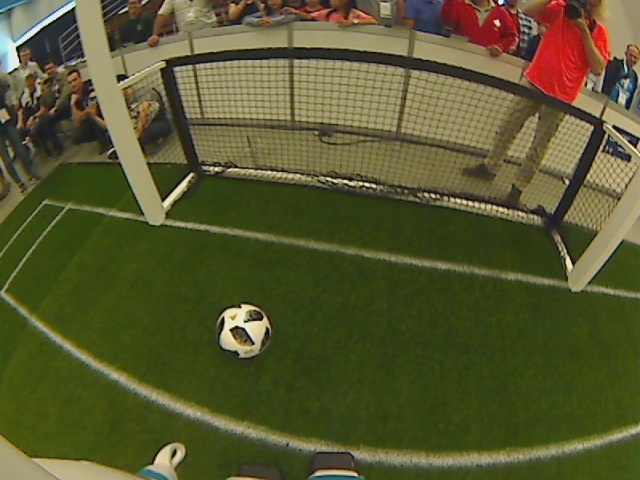ball: (214, 302, 273, 358)
